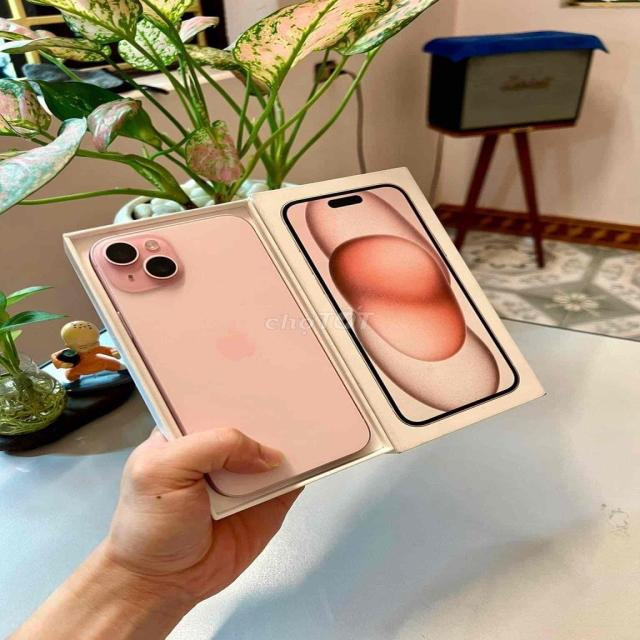gen_12_13: (77, 209, 377, 491)
